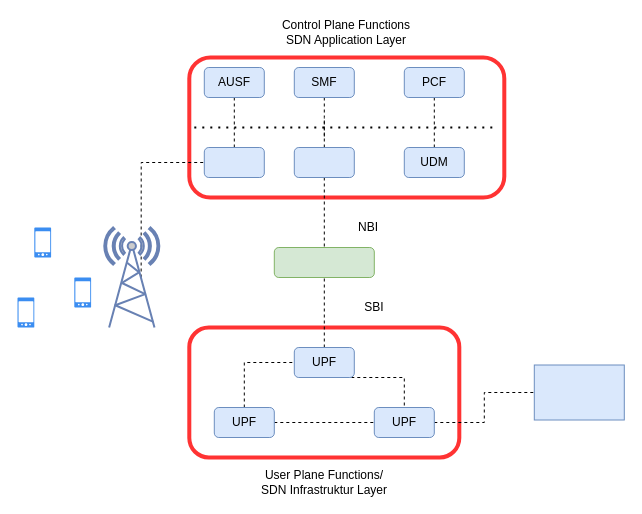
Image size: 642x514. Some labels were removed from this diagram. The shapes that lost their labels are listed below. From the top down, each one's box as (x1, y1, x2, y2) in pixels, then its label:
(203, 146, 264, 178): AMF
(293, 146, 354, 178): NEF
(273, 246, 374, 278): SDN-Controller
(533, 364, 624, 420): Data Network
